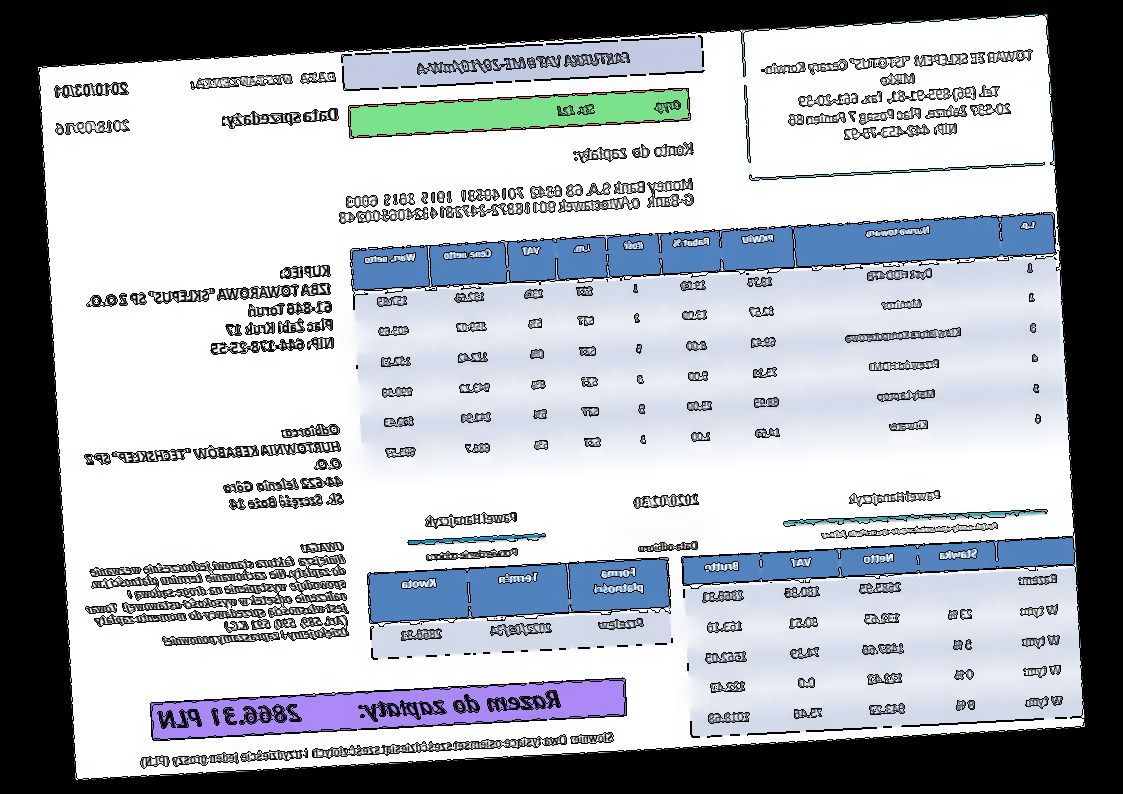Table: (349, 210, 1068, 475), (680, 535, 1083, 739), (367, 556, 673, 660)
TextBox: (78, 538, 350, 654), (760, 48, 1038, 146), (83, 419, 346, 521), (84, 260, 337, 364), (155, 684, 564, 736), (138, 729, 616, 772), (335, 176, 697, 226), (413, 49, 632, 78), (820, 519, 1002, 542), (187, 67, 337, 94), (572, 139, 696, 166), (219, 105, 340, 131), (555, 98, 683, 120), (424, 508, 520, 532), (847, 484, 943, 507), (424, 545, 521, 564), (52, 117, 132, 139), (54, 79, 132, 101), (633, 491, 701, 512), (637, 538, 701, 554)
